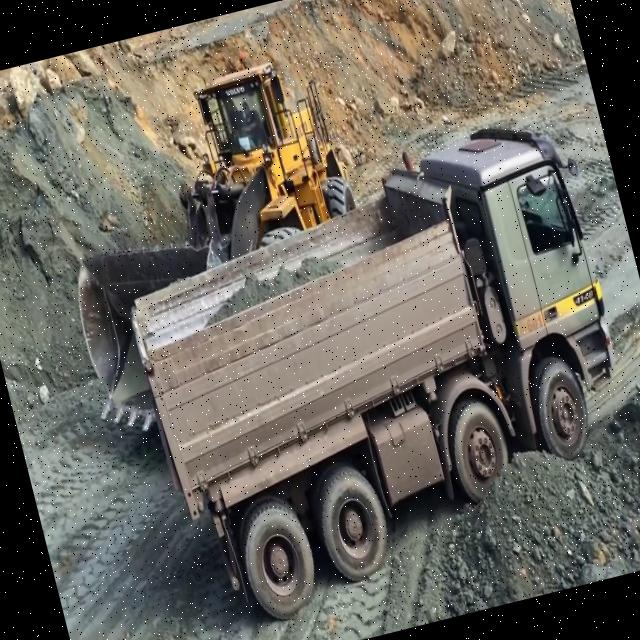Dump Truck: (96, 88, 640, 640)
Loader: (21, 41, 398, 447)
